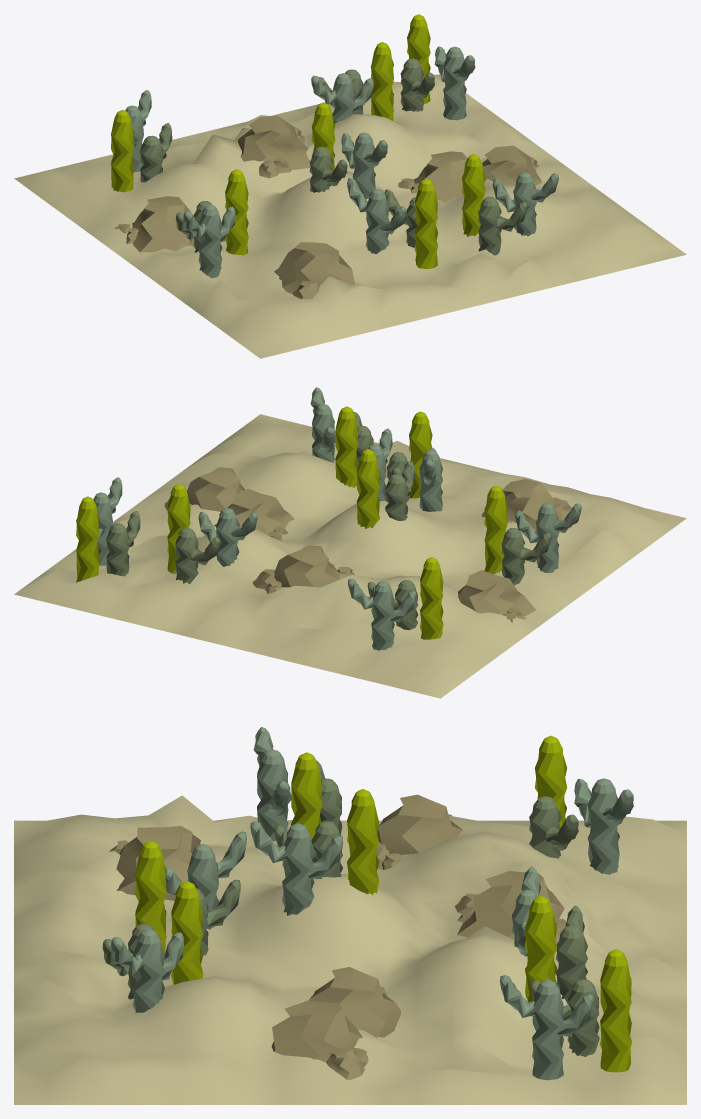
Rendered from UPDATEDnonwalkingTile.fbx.
The picture shows the model from 3 angles, top to bottom: view 1: azimuth 30°, elevation 25°; view 2: azimuth 150°, elevation 25°; view 3: azimuth 270°, elevation 25°; orthographic projection. The views are drawn at different scales.
Visible parts, largest first — view 1: nonwalkingtile, cactus1 (×6), mainrock (×4), cactus3 (×6), cactus2 (×3), rockCluster:mainrock, cactusCluster:cactus3, cactusCluster:cactus1, cactusCluster:cactus2; view 2: nonwalkingtile, cactus1 (×6), mainrock (×4), cactus3 (×6), cactus2 (×4), cactusCluster:cactus1, rockCluster:mainrock, cactusCluster:cactus2, cactusCluster:cactus3; view 3: nonwalkingtile, cactus1 (×6), mainrock (×4), cactus3 (×6), cactus2 (×4), cactusCluster:cactus1, rockCluster:mainrock, cactusArm1 (×4), cactusCluster:cactus3, cactusArm2 (×3), cactusCluster:cactus2, cactusArm (×2) (+3 smaller).
Part boxes in pixels (x1,y1,x2,y2): nonwalkingtile: (14, 74, 686, 358); cactus1 (×6): (111, 42, 485, 269); mainrock (×4): (132, 115, 542, 252); cactus3 (×6): (125, 73, 536, 278); cactus2 (×3): (140, 135, 501, 255); rockCluster:mainrock: (274, 242, 355, 293); cactusCluster:cactus3: (443, 46, 466, 120); cactusCluster:cactus1: (407, 14, 430, 103); cactusCluster:cactus2: (400, 58, 424, 111); nonwalkingtile: (14, 414, 686, 698); cactus1 (×6): (167, 406, 507, 639); mainrock (×4): (187, 467, 535, 615); cactus3 (×6): (216, 404, 559, 650); cactus2 (×4): (175, 474, 524, 630); cactusCluster:cactus1: (76, 496, 99, 582); rockCluster:mainrock: (482, 479, 562, 530); cactusCluster:cactus2: (106, 523, 129, 576); cactusCluster:cactus3: (93, 492, 112, 565); nonwalkingtile: (14, 795, 686, 1104); cactus1 (×6): (135, 735, 567, 1001); mainrock (×4): (271, 794, 564, 1062); cactus3 (×6): (132, 749, 619, 1012); cactus2 (×4): (311, 778, 587, 1003); cactusCluster:cactus1: (600, 949, 631, 1072); rockCluster:mainrock: (116, 826, 200, 900); cactusArm1 (×4): (111, 789, 633, 974); cactusCluster:cactus3: (532, 979, 563, 1080); cactusArm2 (×3): (162, 781, 343, 980); cactusCluster:cactus2: (567, 979, 599, 1056); cactusArm (×2): (206, 814, 578, 927).
Bounding box in the file's own units: 23.9 × 6.23 × 23.9.
